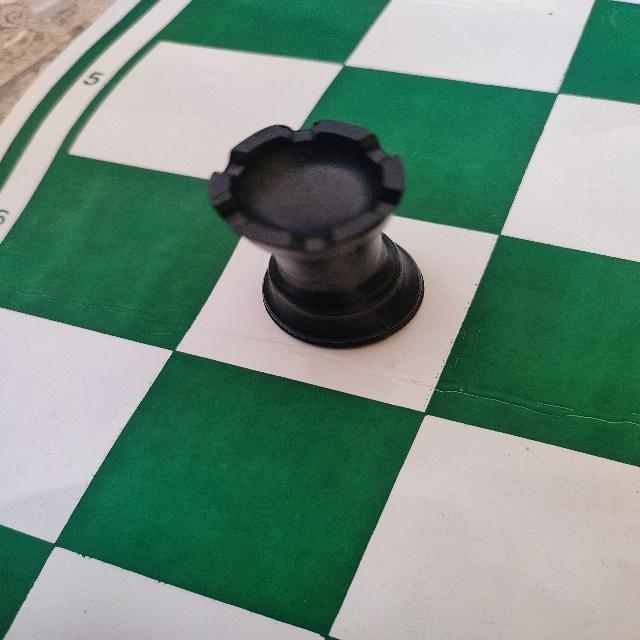Rook: (203, 114, 427, 353)
